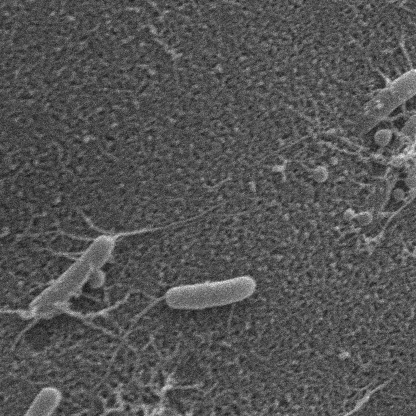cell2cell: (62, 292, 164, 318)
cell2surface: (380, 116, 416, 246), (112, 207, 210, 240), (322, 384, 388, 416), (0, 274, 30, 318), (38, 240, 93, 261), (47, 222, 97, 244), (75, 200, 104, 235), (397, 37, 416, 76)
regular: (27, 231, 112, 324), (160, 274, 254, 309), (358, 70, 416, 124), (0, 387, 56, 416)
